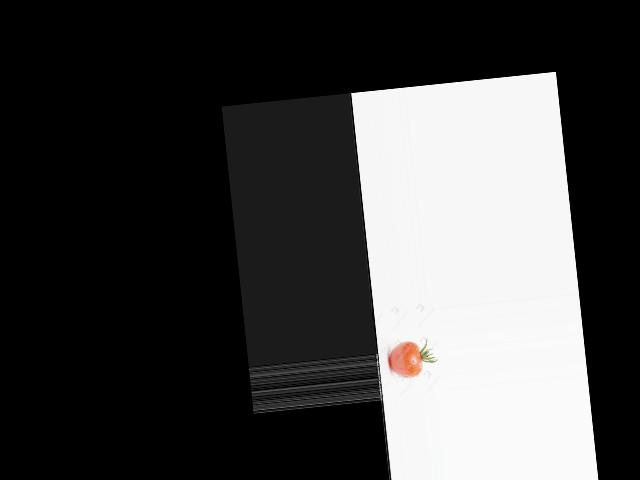tomato: (387, 339, 423, 378)
